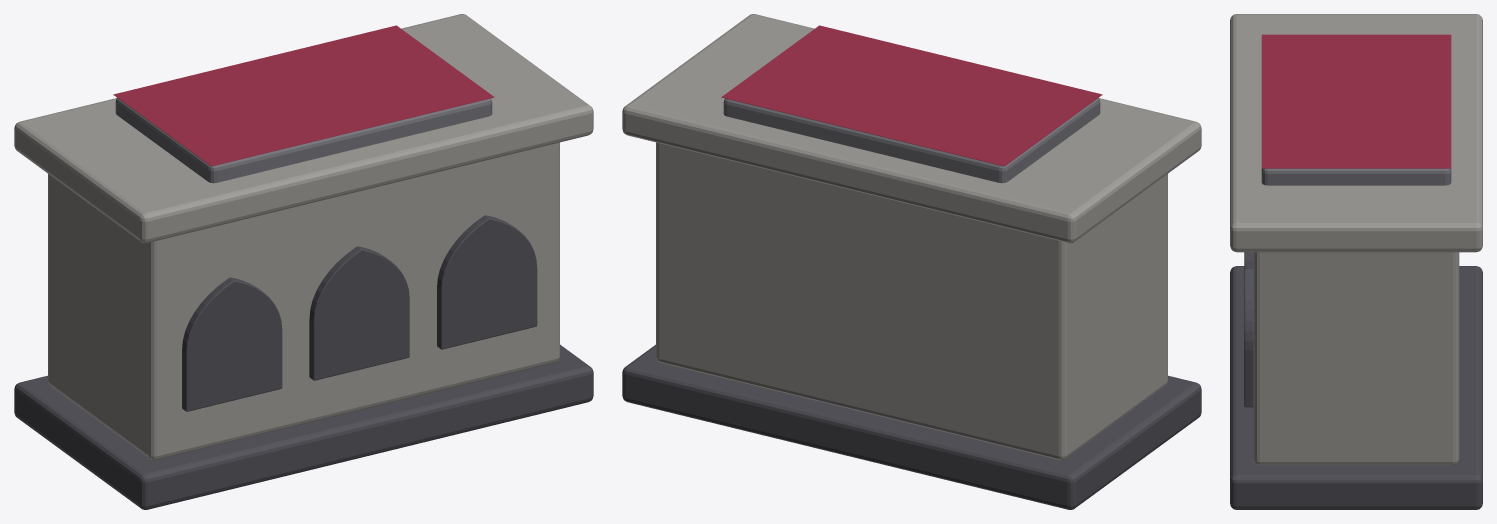
Rendered from altar_tiered_altar.glb.
3 views of the same model, side by side, from view 1: azimuth 30°, elevation 25°; view 2: azimuth 150°, elevation 25°; view 3: azimuth 270°, elevation 25° (orthographic). The views are drawn at different scales.
Parts seen in each view (by area): view 1: GD_altar_tiered_altar__m1, GD_altar_tiered_altar__m0, GD_altar_tiered_altar__m3, GD_altar_tiered_altar__m2; view 2: GD_altar_tiered_altar__m1, GD_altar_tiered_altar__m0, GD_altar_tiered_altar__m3, GD_altar_tiered_altar__m2; view 3: GD_altar_tiered_altar__m1, GD_altar_tiered_altar__m3, GD_altar_tiered_altar__m0, GD_altar_tiered_altar__m2.
Boxes of the visible parts, x1=… form: GD_altar_tiered_altar__m1: x1=14, y1=14, x2=593, y2=460; GD_altar_tiered_altar__m0: x1=14, y1=215, x2=593, y2=509; GD_altar_tiered_altar__m3: x1=113, y1=25, x2=494, y2=166; GD_altar_tiered_altar__m2: x1=115, y1=98, x2=492, y2=183; GD_altar_tiered_altar__m1: x1=622, y1=14, x2=1201, y2=460; GD_altar_tiered_altar__m0: x1=622, y1=344, x2=1201, y2=509; GD_altar_tiered_altar__m3: x1=721, y1=25, x2=1102, y2=166; GD_altar_tiered_altar__m2: x1=723, y1=98, x2=1100, y2=183; GD_altar_tiered_altar__m1: x1=1230, y1=14, x2=1482, y2=465; GD_altar_tiered_altar__m3: x1=1261, y1=34, x2=1451, y2=168; GD_altar_tiered_altar__m0: x1=1230, y1=252, x2=1482, y2=509; GD_altar_tiered_altar__m2: x1=1261, y1=168, x2=1451, y2=185.
Bounding box in the file's own units: 1.6 × 1.06 × 0.8.
